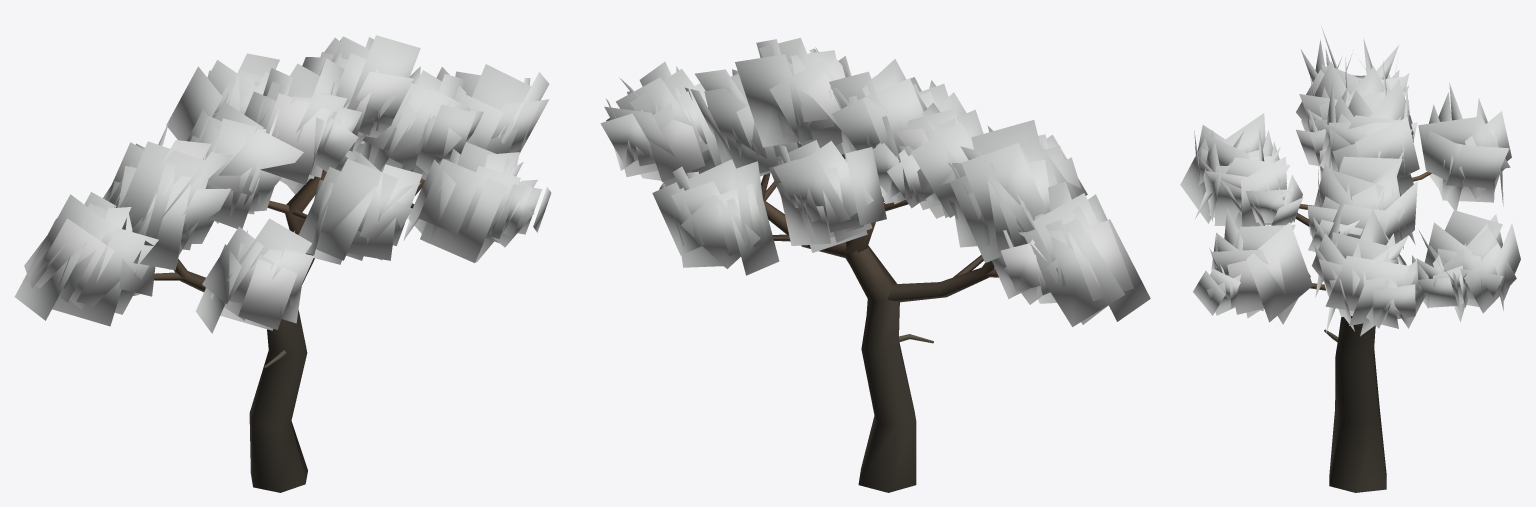
3 renders of one model, left to right at view 1: azimuth 30°, elevation 25°; view 2: azimuth 150°, elevation 25°; view 3: azimuth 270°, elevation 25°, orthographic. The views are drawn at different scales.
Visible parts, largest first — view 1: crown, trunk; view 2: crown, trunk; view 3: crown, trunk.
Part boxes in pixels (<box>): crown: <box>14,35,551,333</box>; trunk: <box>154,170,424,492</box>; crown: <box>600,37,1150,326</box>; trunk: <box>761,154,998,492</box>; crown: <box>1180,26,1520,336</box>; trunk: <box>1295,171,1431,492</box>.
Size of the model in its own units: 11.38 by 8.93 by 6.18.
